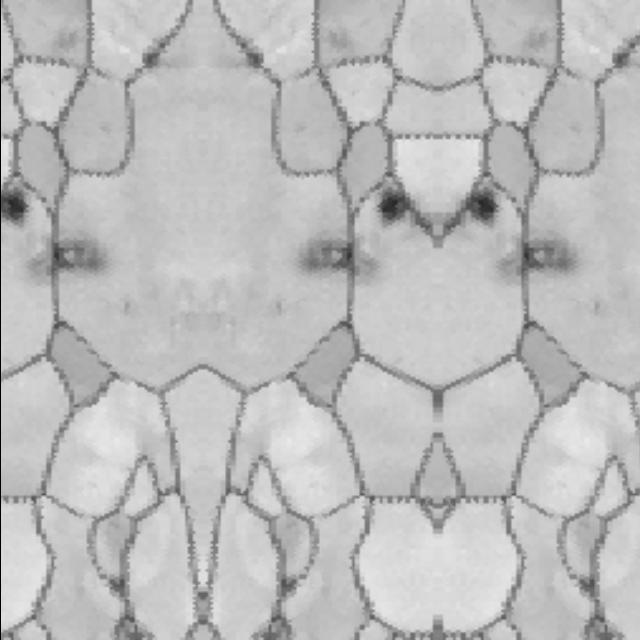good_void: (285, 208, 380, 304), (30, 225, 113, 281), (501, 225, 583, 281), (364, 185, 419, 240), (456, 185, 505, 238), (0, 188, 33, 236), (235, 39, 273, 76), (602, 42, 638, 72), (132, 42, 167, 72), (324, 30, 357, 55), (519, 30, 552, 55), (49, 30, 81, 55), (272, 295, 288, 319), (119, 295, 132, 318), (590, 295, 602, 318)
